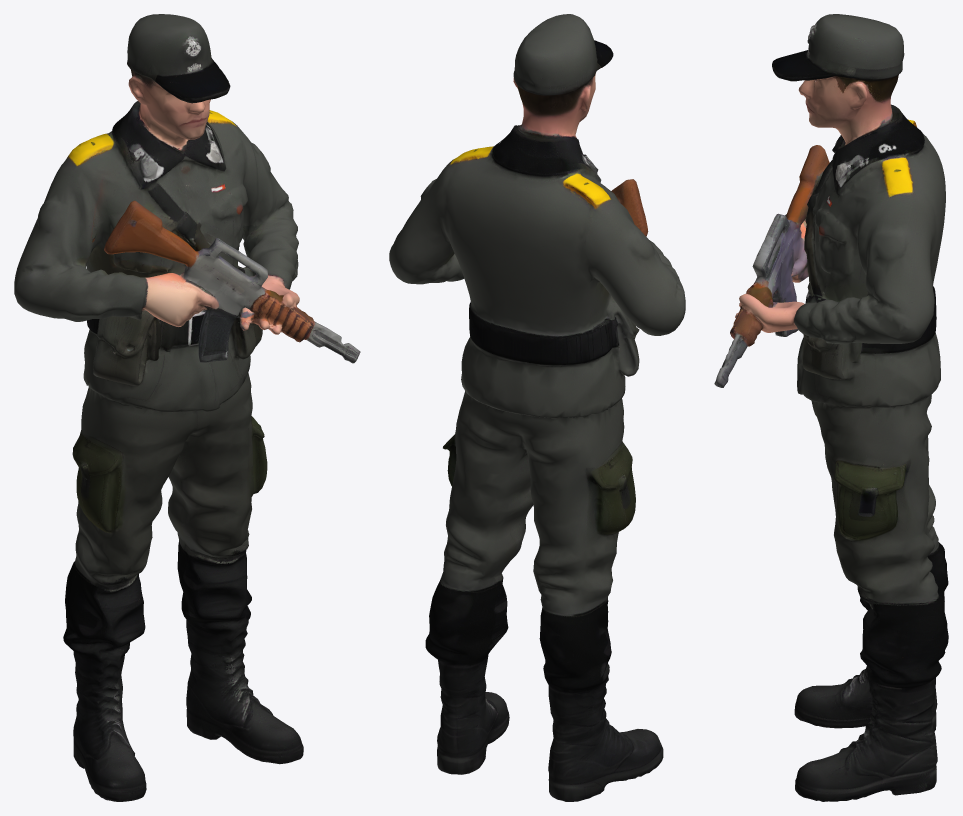
File: ss_soldier.glb
3 views of the same model, side by side, from view 1: azimuth 30°, elevation 25°; view 2: azimuth 150°, elevation 25°; view 3: azimuth 270°, elevation 25° (orthographic). The views are drawn at different scales.
Size of the model in its own units: 0.7643 by 1.91 by 0.5541.
Materials: 1 (1 with a texture image).
